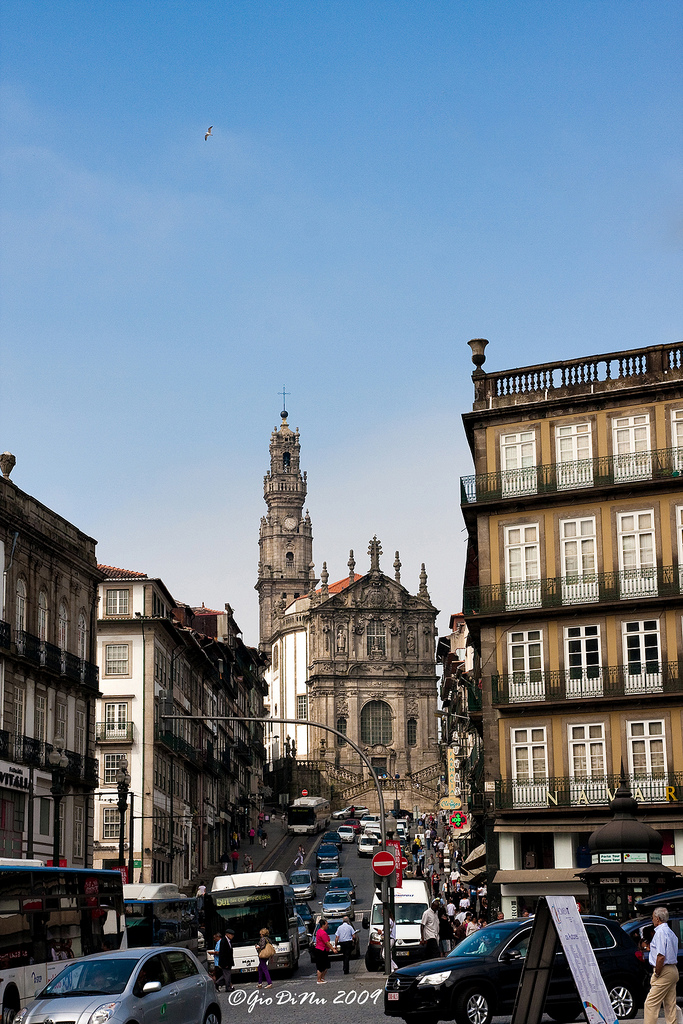clerigos: (254, 383, 321, 657)
